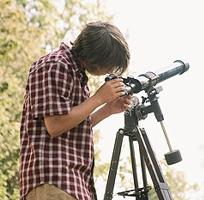person: (20, 21, 134, 200)
